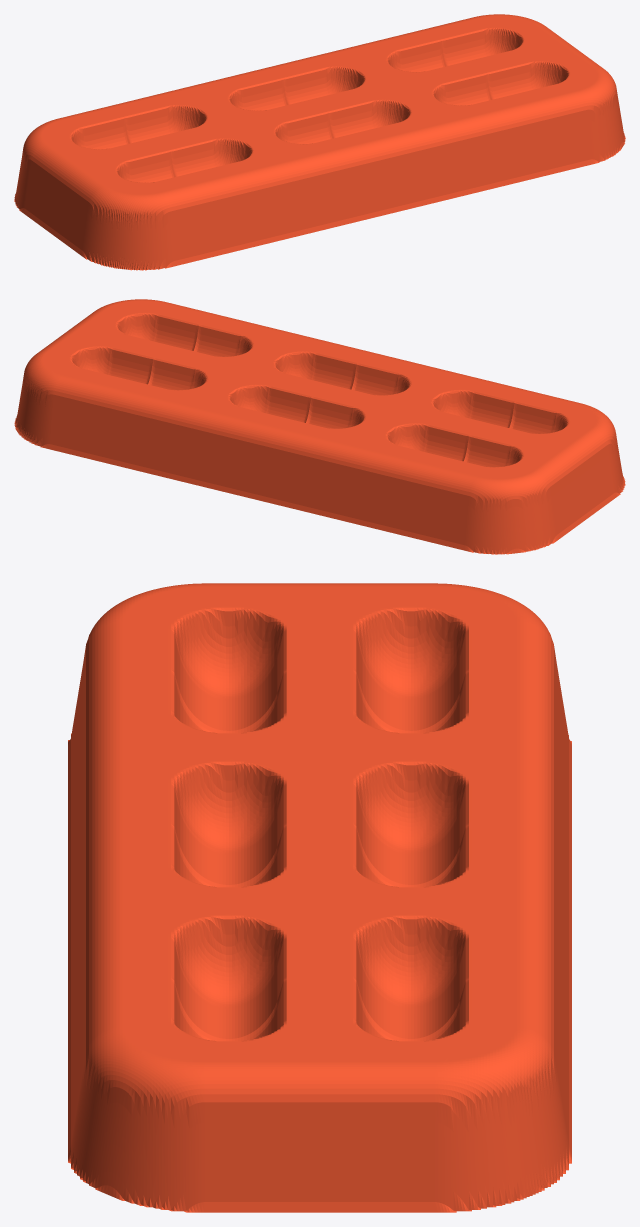
The model's file is mold.glb.
3 renders of one model, top to bottom at view 1: azimuth 30°, elevation 25°; view 2: azimuth 150°, elevation 25°; view 3: azimuth 270°, elevation 25°, orthographic. The views are drawn at different scales.
Parts seen in each view (by area): view 1: geometry_0; view 2: geometry_0; view 3: geometry_0.
Part boxes in pixels (x1=…): geometry_0: x1=14, y1=14, x2=625, y2=270; geometry_0: x1=14, y1=299, x2=625, y2=554; geometry_0: x1=68, y1=583, x2=571, y2=1212.
Size of the model in its own units: 0.0812 by 0.00926 by 0.0332.
